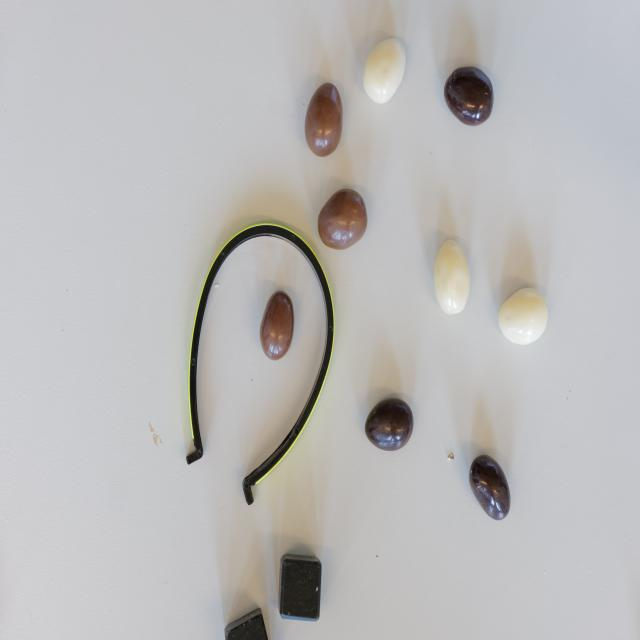Jelly_Black: (444, 67, 494, 126), (469, 455, 512, 521), (365, 398, 412, 452)
Jelly_Milk: (317, 190, 366, 250), (304, 84, 342, 158), (261, 292, 294, 359)
Jelly_White: (498, 288, 549, 346), (364, 38, 406, 105), (433, 240, 468, 314)
